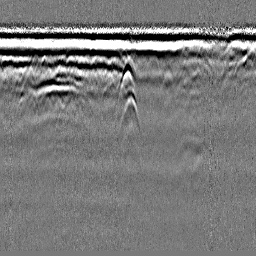cavity: (116, 57, 137, 99)
